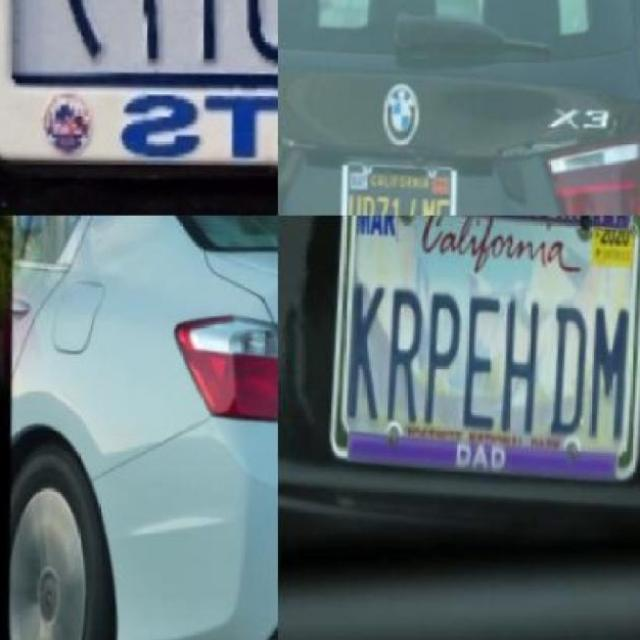license-plate: (348, 240, 640, 476), (0, 2, 286, 166), (349, 161, 472, 219)
